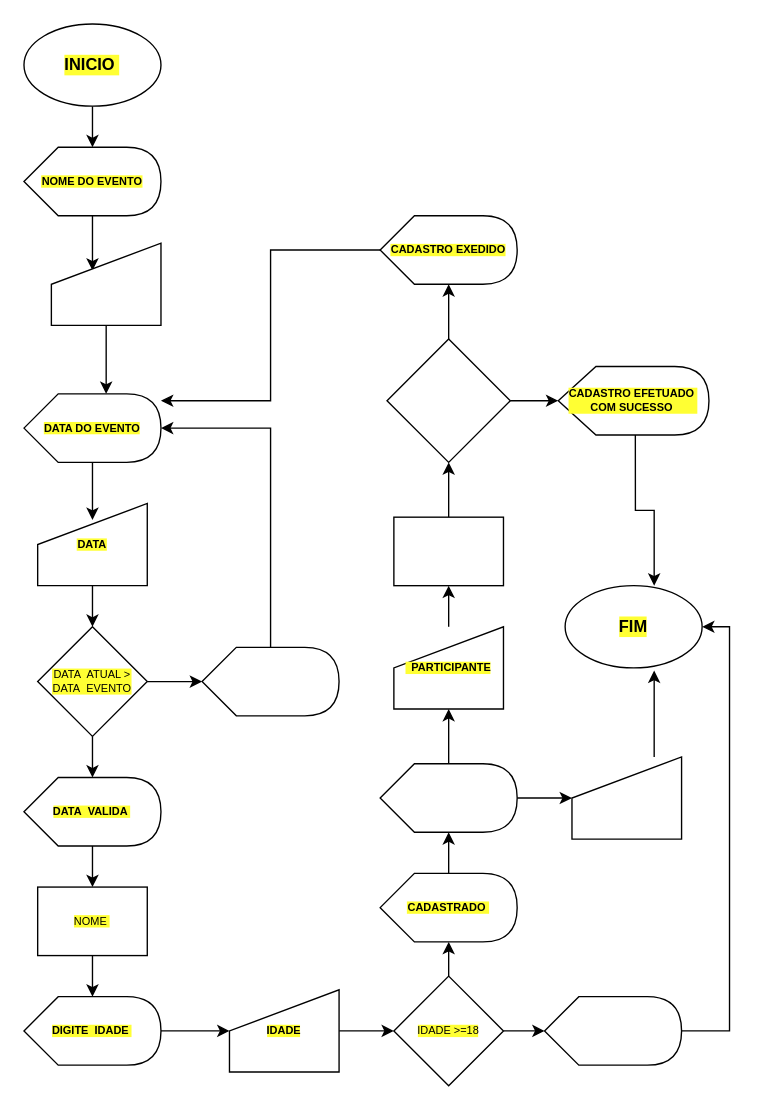
The diagram is 764 pixels wide and 1110 high, and some of its shapes have lost their labels. Here are the shapes that lost their labels. From the top down, the centre of each, then its label:
(x=105, y=283): EVENTO
(x=448, y=400): PARTICIPANTES < 100
(x=448, y=551): CALCULAR PARTICIPANTES
(x=270, y=681): DATA INVALIDA
(x=448, y=797): PALESTRANTE OU PARTICIPANTE
(x=626, y=797): PALESTRANTE
(x=612, y=1030): CADASTRO NÃO AUTORIZADO
